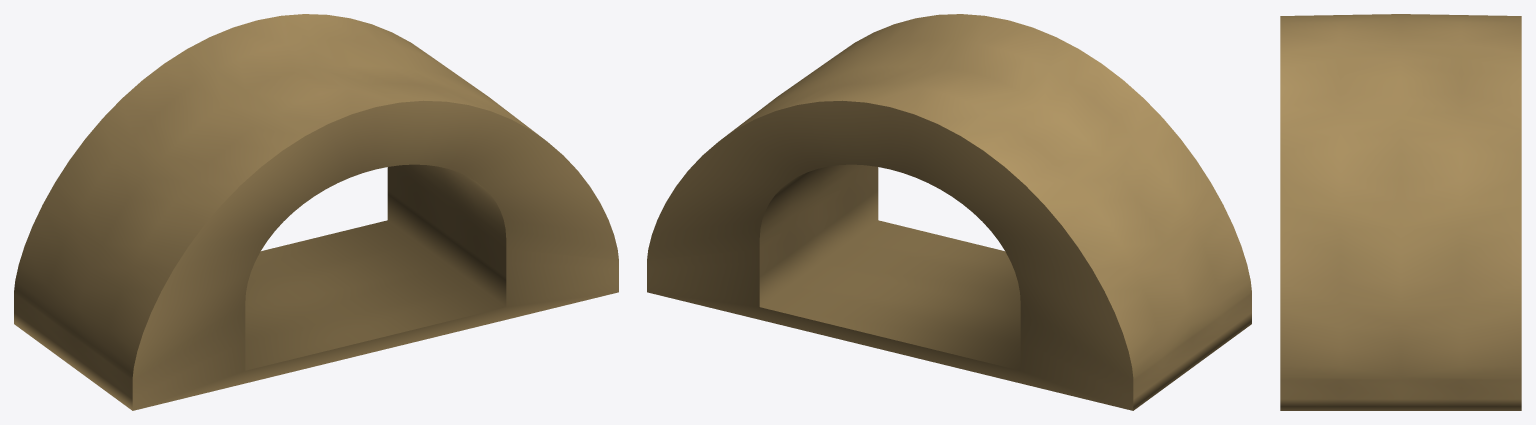
File: straight_12m_terrain_lod1.glb
3 renders of one model, left to right at view 1: azimuth 30°, elevation 25°; view 2: azimuth 150°, elevation 25°; view 3: azimuth 270°, elevation 25°, orthographic.
Parts seen in each view (by area): view 1: TerrainRoof.005; view 2: TerrainRoof.005; view 3: TerrainRoof.005.
Part boxes in pixels (x1=…): TerrainRoof.005: x1=14, y1=14, x2=618, y2=410; TerrainRoof.005: x1=647, y1=14, x2=1251, y2=410; TerrainRoof.005: x1=1280, y1=14, x2=1521, y2=410.
Bounding box in the file's own units: 28.4 × 13.65 × 12.
